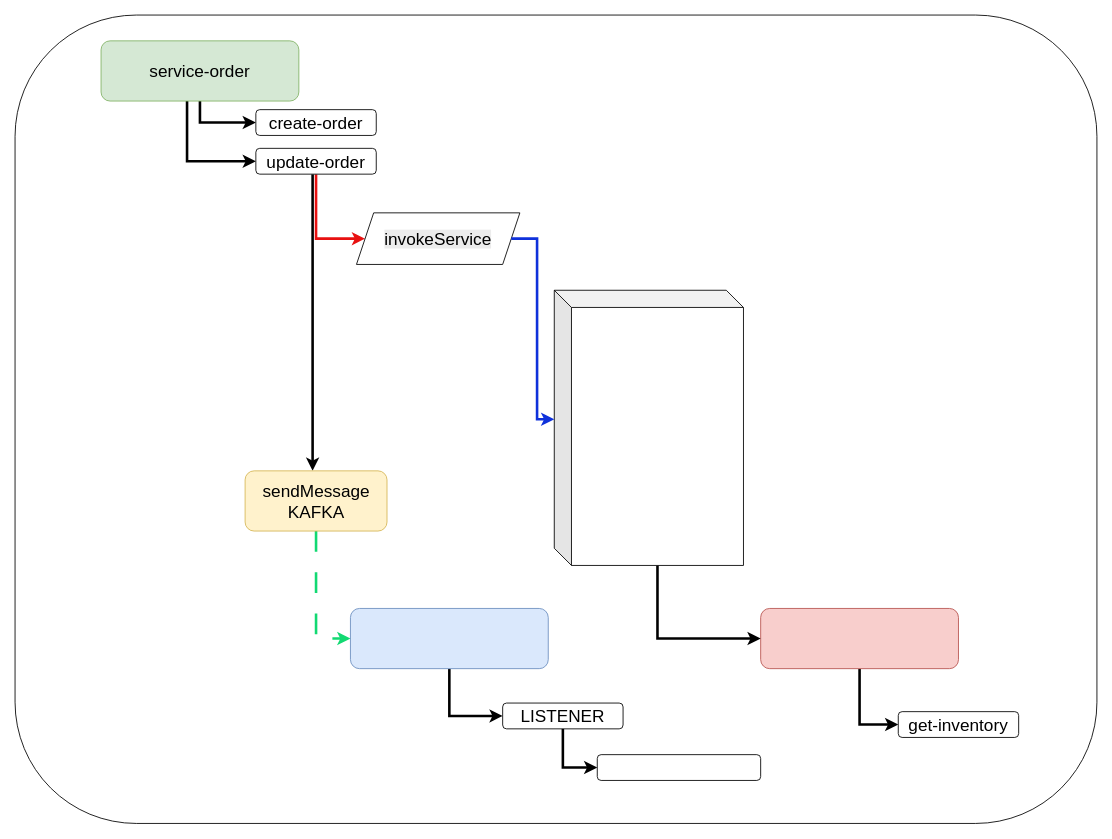
Image size: 1112x839. Some labels were removed from this diagram. The shapes that lost their labels are listed below. From the top down, each one's box as (x1, y1, x2, y2) in pixels, then its label:
(350, 608, 548, 669): service-notify
(760, 608, 958, 669): service-inventory
(596, 754, 761, 780): saves Notification
